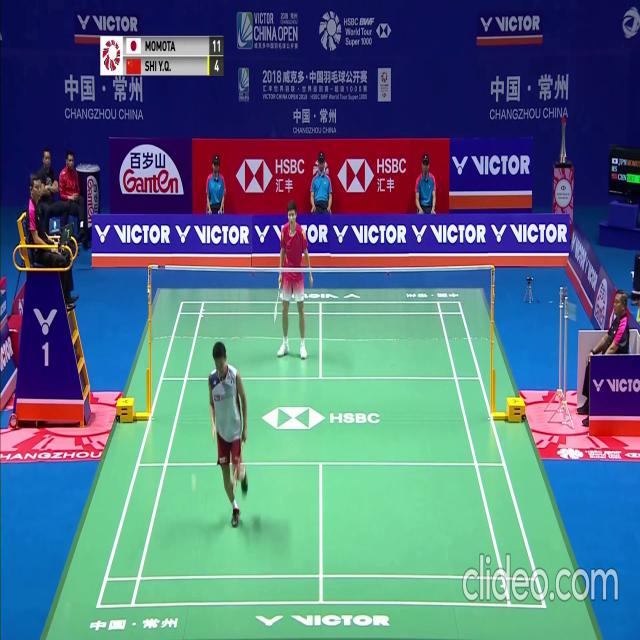Shuttlecock: (191, 479, 196, 487)
